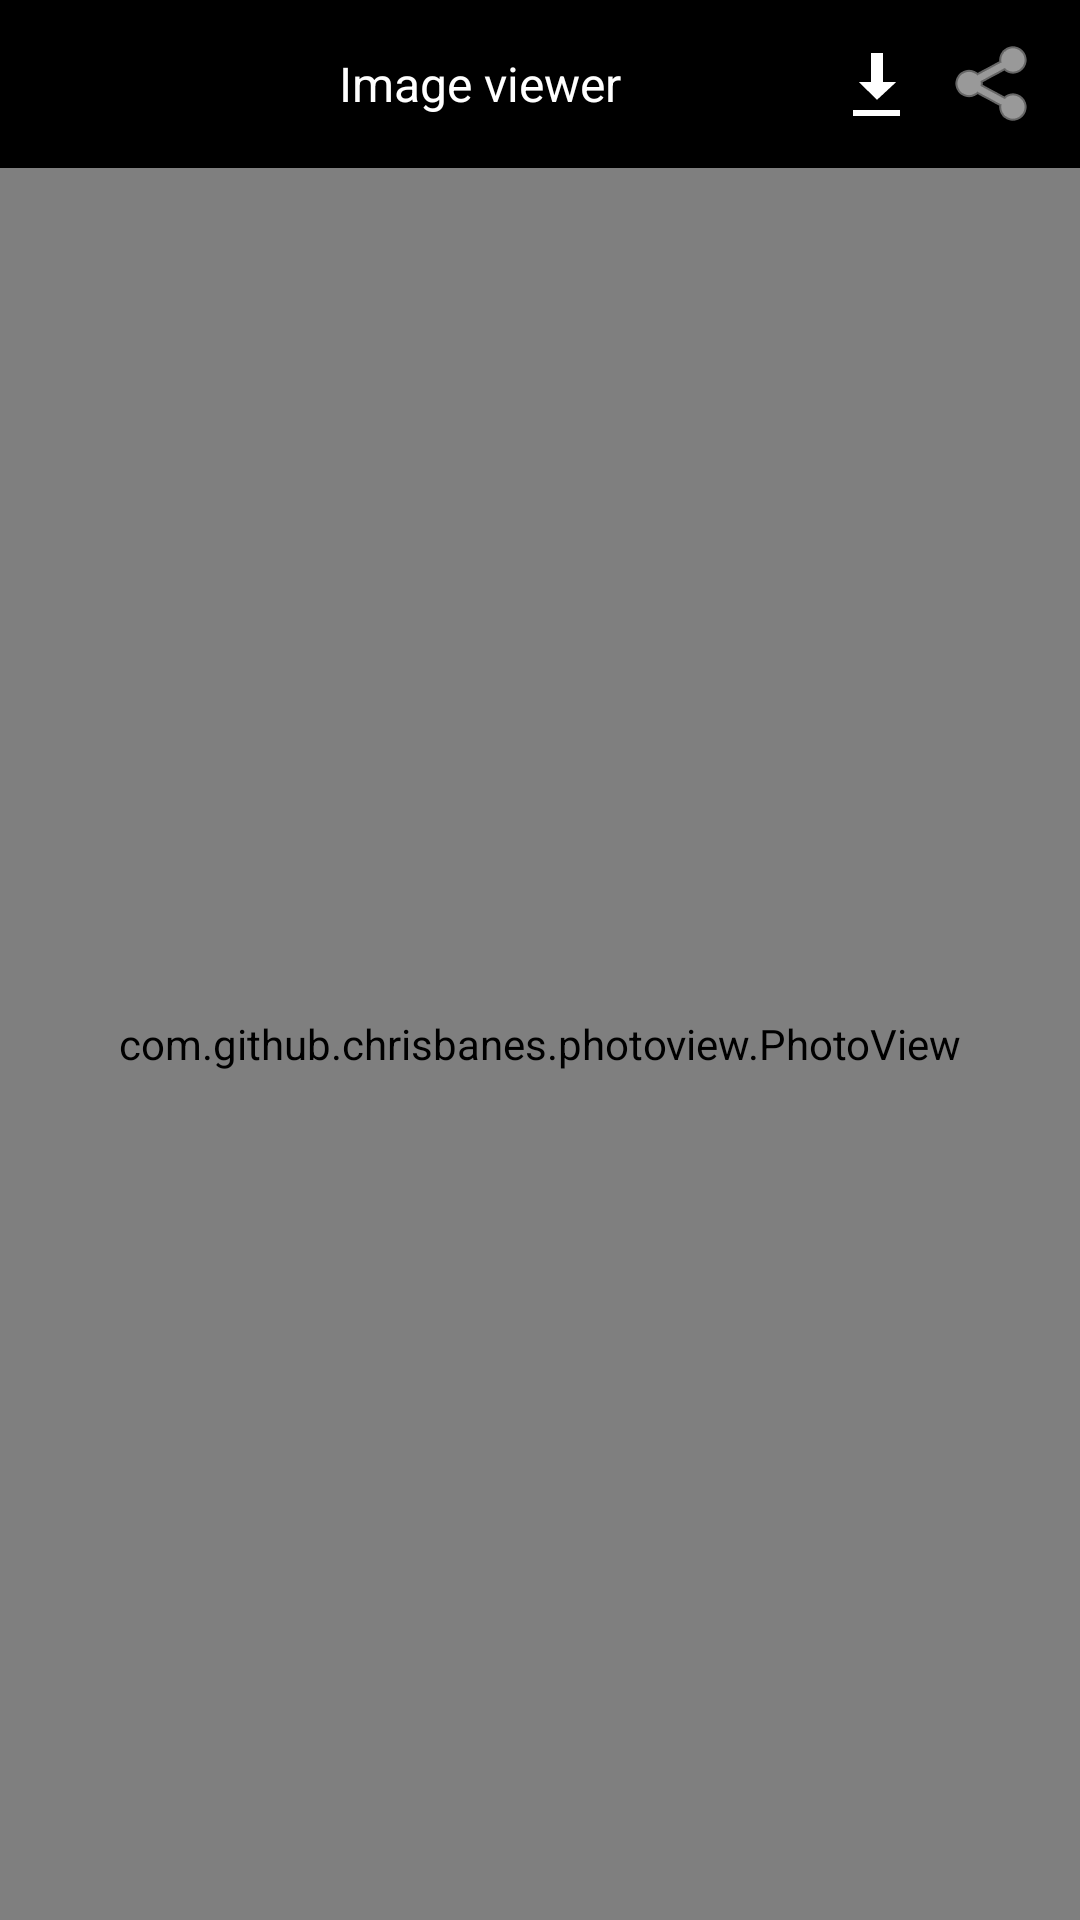

Icon click points for this 1080*1920 phone screenshot, format [x,y]:
share: [991,83]
